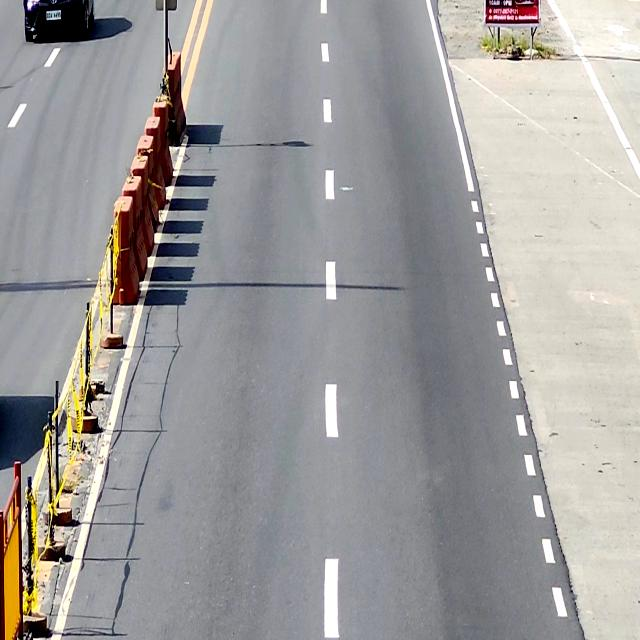Car: (23, 0, 94, 41)
License-Plate: (45, 8, 62, 22)
